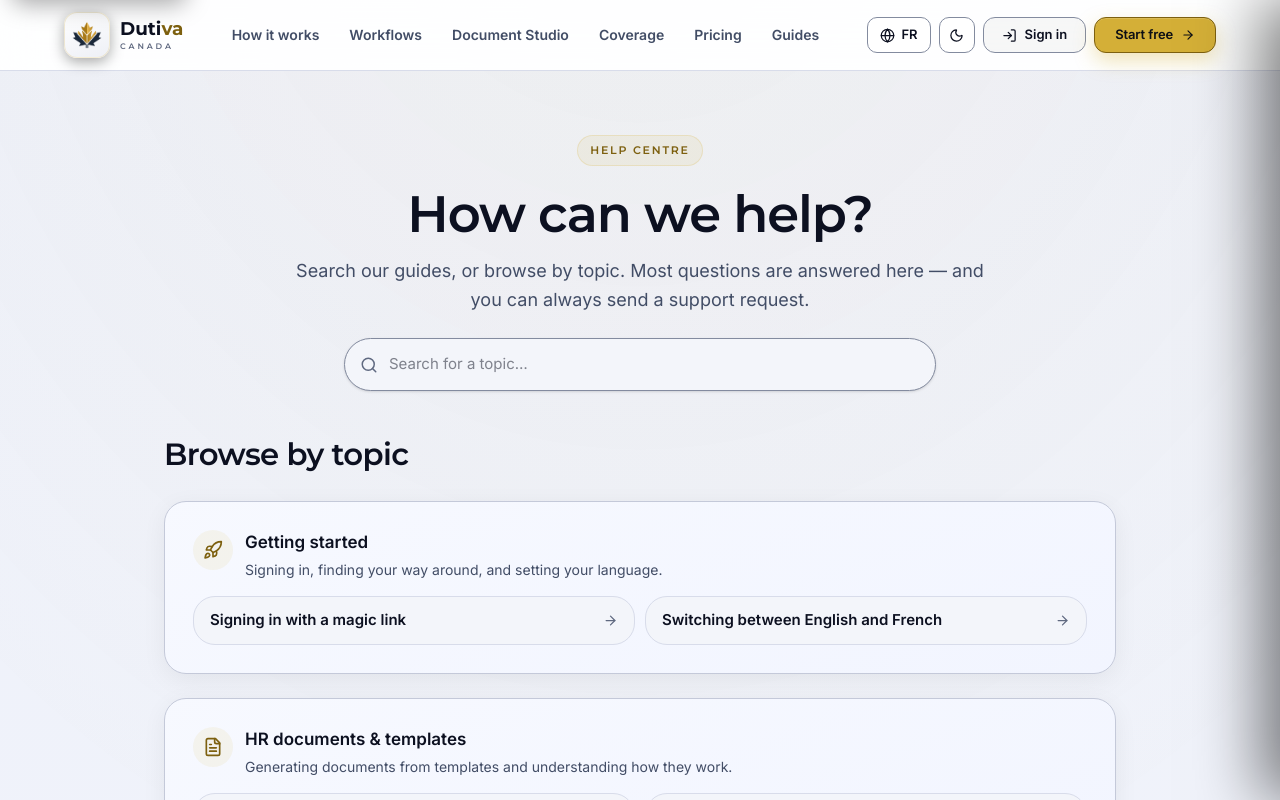
Test: HelpCenterPage › shows a no-results state for an unmatched query
This screenshot has width=1280, height=800.
Step 1. Type "zzzzzznope" into the search field → (640, 365), box x1=344 y1=338 x2=936 y2=391
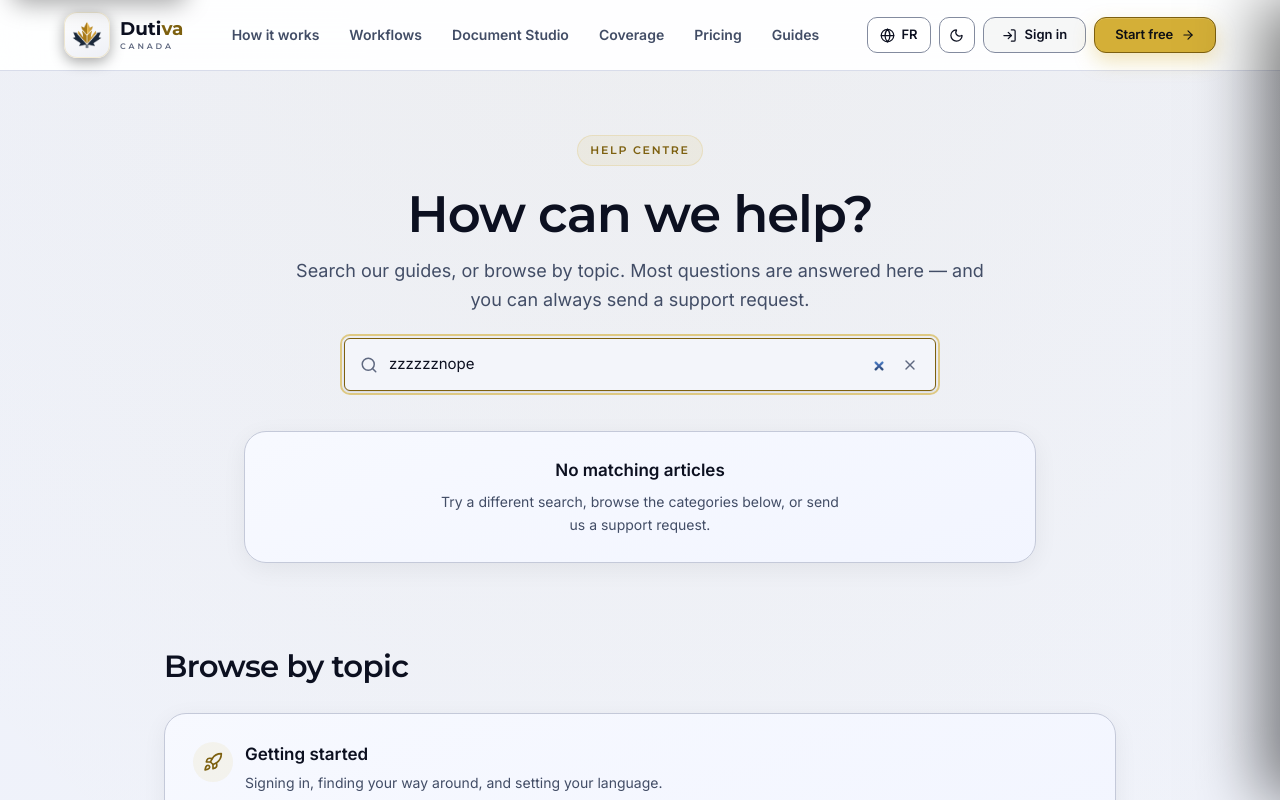
Expected: the heading "No matching articles" is shown, x1=555 y1=460 x2=725 y2=480
